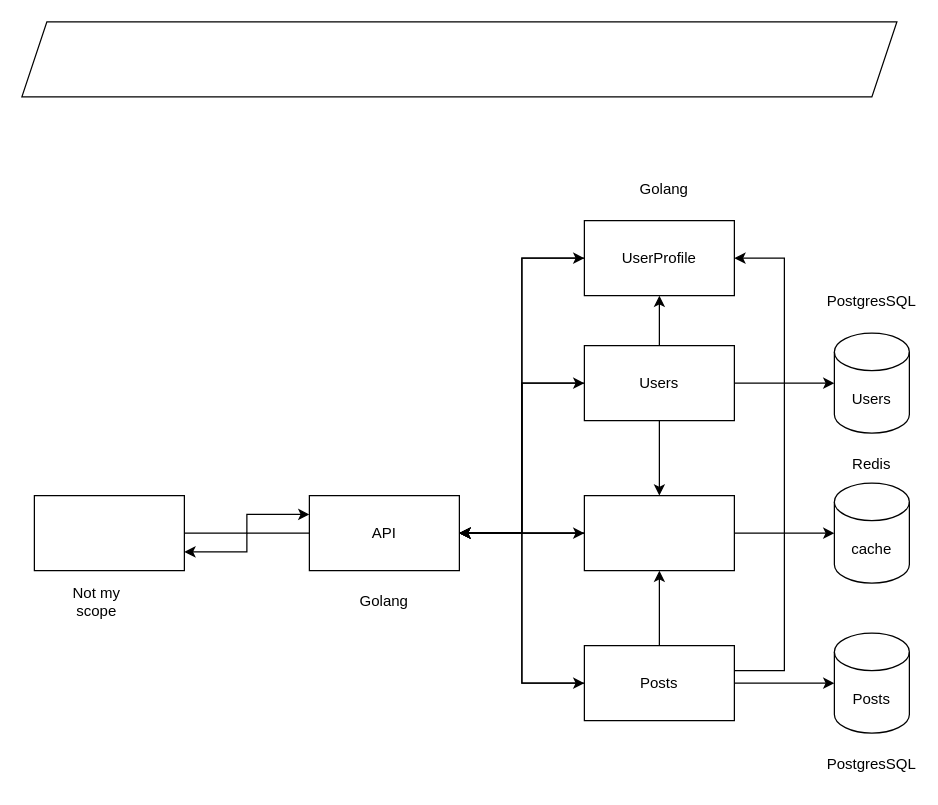
Some shapes in this 938 by 805 pixel diagram are drawn without their labels. Each missing label, with the centre of its shape:
Frontend: pixel 108 532
Homepage: pixel 658 532
System Design Strider Posterr: pixel 459 59
